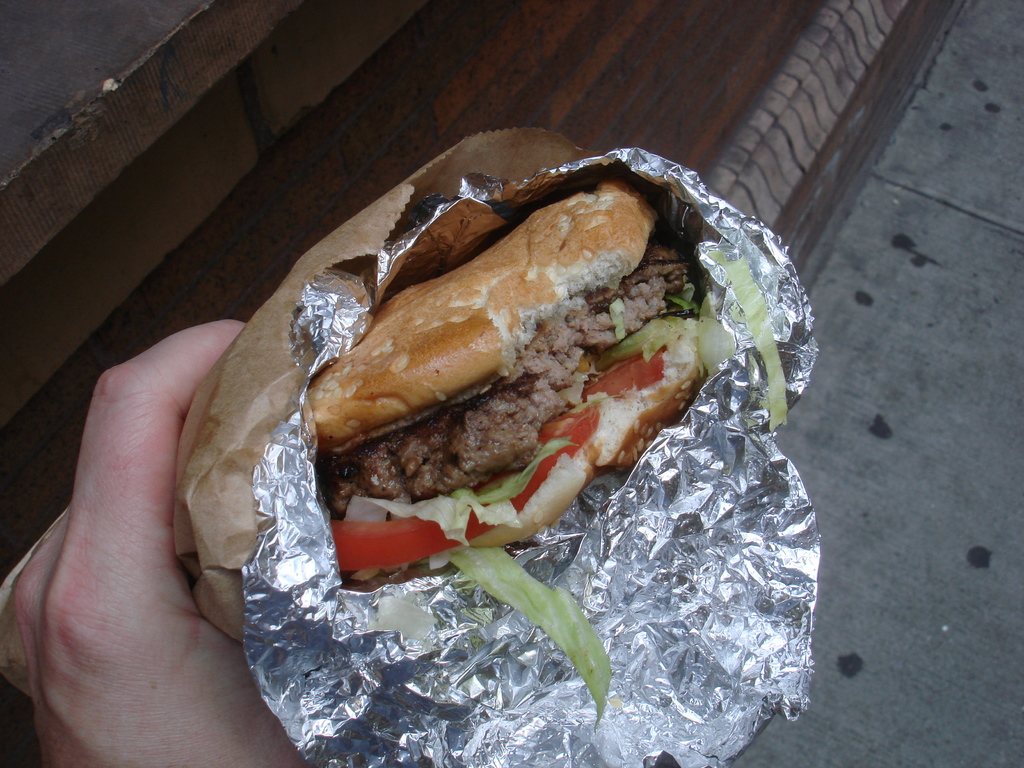Hamburger: (305, 181, 792, 736)
